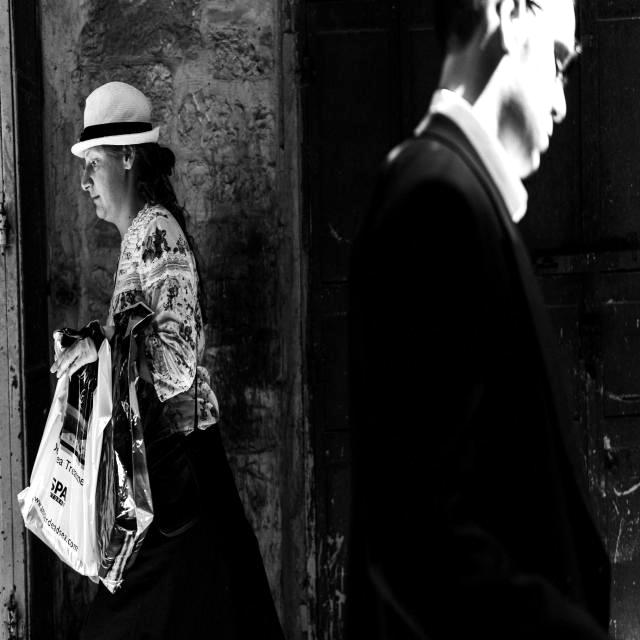no_hard_hat: (71, 82, 159, 157)
no_head_wear: (434, 0, 488, 51)
person: (349, 0, 610, 639), (71, 82, 284, 640)
